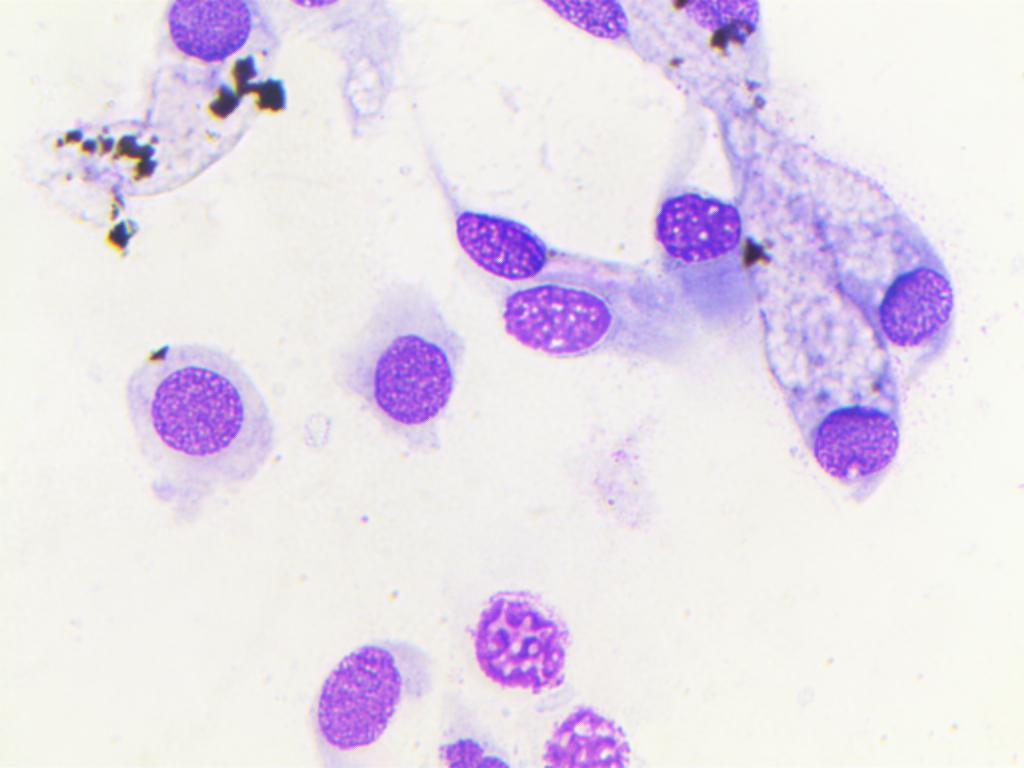artifact: (50, 128, 166, 265), (208, 57, 304, 125), (711, 12, 759, 56), (742, 233, 773, 273)
epithelial: (308, 268, 483, 444), (99, 321, 274, 497), (452, 553, 595, 695), (294, 625, 437, 767), (492, 275, 615, 365), (646, 173, 744, 267), (162, 0, 259, 58)
goblet_cell: (759, 340, 920, 489), (838, 228, 959, 355), (446, 195, 563, 286)
